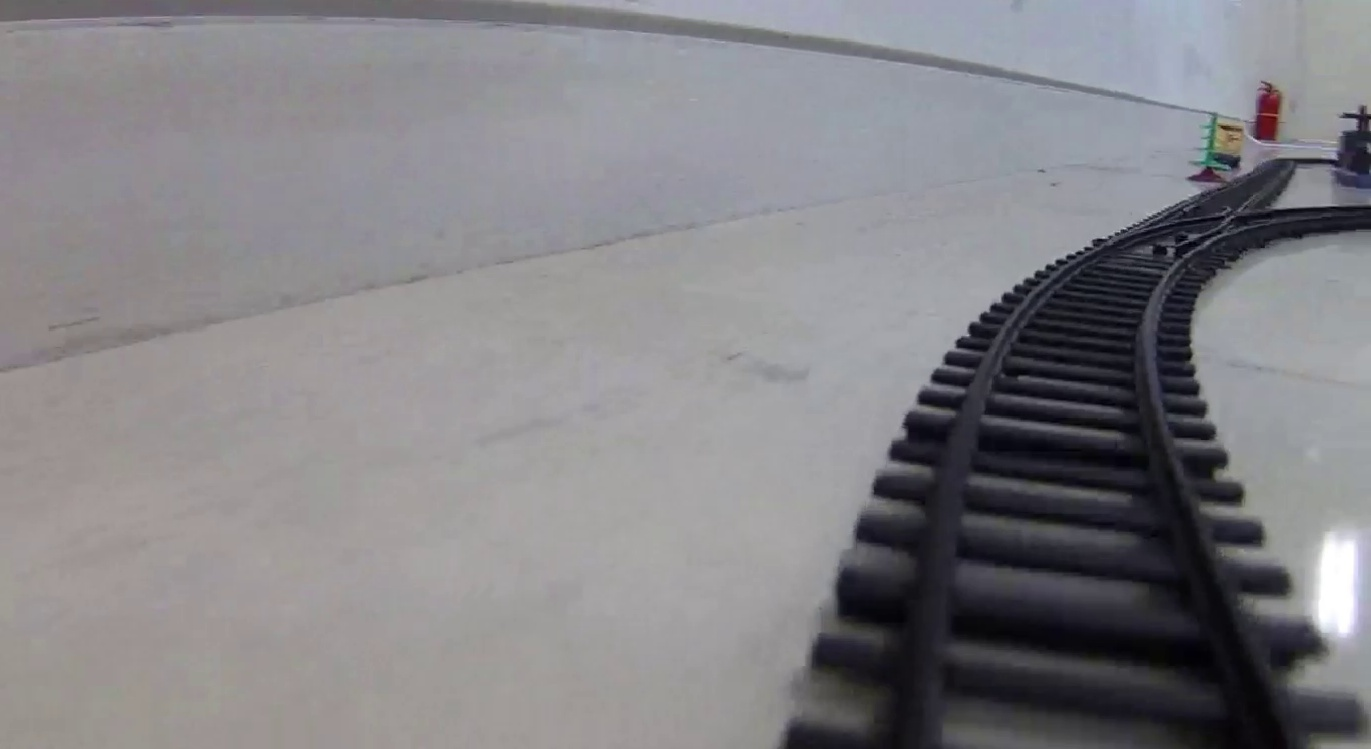tree: (1188, 112, 1230, 183)
